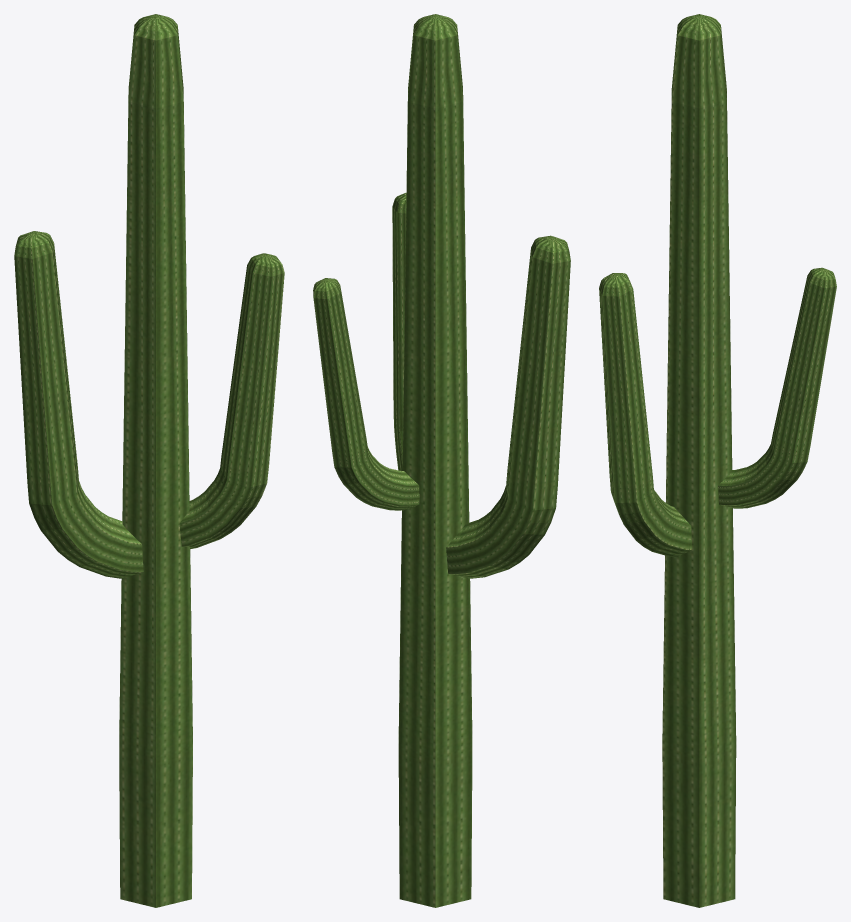
The model's file is Cactus_Saguaro.obj.
3 views of the same model, side by side, from view 1: azimuth 30°, elevation 25°; view 2: azimuth 150°, elevation 25°; view 3: azimuth 270°, elevation 25° (orthographic).
Parts seen in each view (by area): view 1: Cactus_Saguaro_cactus-mesh; view 2: Cactus_Saguaro_cactus-mesh; view 3: Cactus_Saguaro_cactus-mesh.
Boxes of the visible parts, x1,y1,x2,y2 form: Cactus_Saguaro_cactus-mesh: (14,14,284,907); Cactus_Saguaro_cactus-mesh: (313,14,570,907); Cactus_Saguaro_cactus-mesh: (599,14,836,907).
Size of the model in its own units: 1.93 by 7.28 by 1.79.
